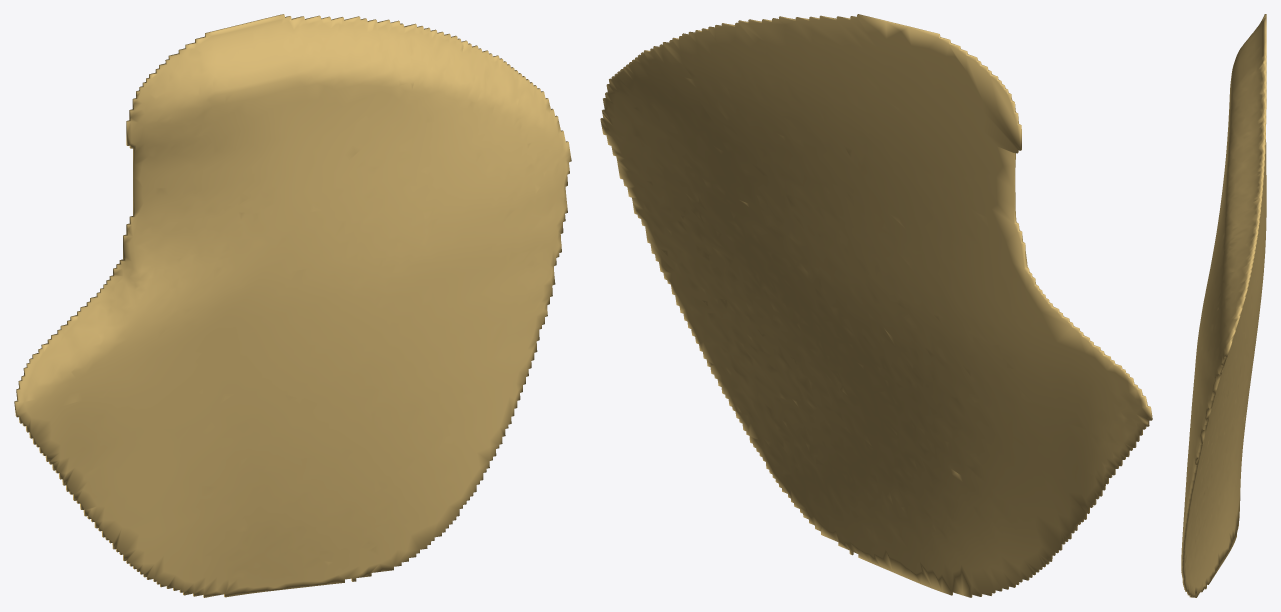
The model's file is PAIR-REVERSE-DANCERS-PAD_LEFT_addon.glb.
3 renders of one model, left to right at view 1: azimuth 30°, elevation 25°; view 2: azimuth 150°, elevation 25°; view 3: azimuth 270°, elevation 25°, orthographic. The views are drawn at different scales.
Parts seen in each view (by area): view 1: geometry_0; view 2: geometry_0; view 3: geometry_0.
Boxes of the visible parts, x1,y1,x2,y2 form: geometry_0: [14, 14, 571, 597]; geometry_0: [600, 14, 1152, 597]; geometry_0: [1181, 14, 1266, 597].
Size of the model in its own units: 82.5 by 80.5 by 12.05.
